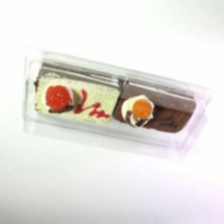plastic_box: (12, 38, 221, 172)
